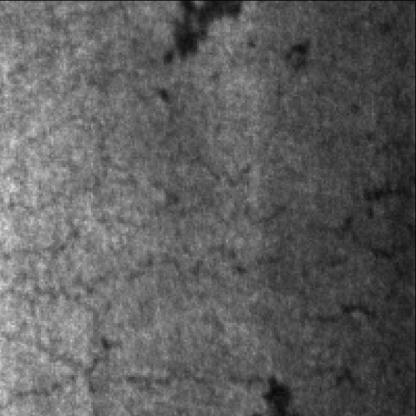crazing: (6, 135, 227, 410), (283, 177, 412, 331), (293, 302, 408, 397)
patches: (160, 2, 244, 67)
